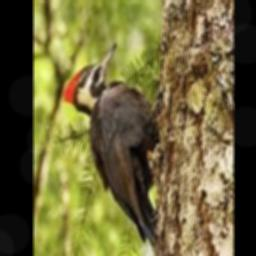Woodpecker: (63, 41, 160, 247)
